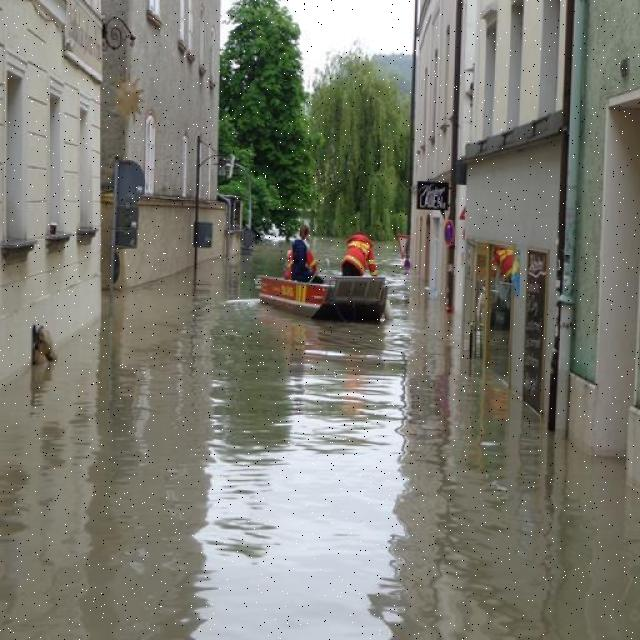rescuer: (278, 214, 325, 294), (338, 222, 383, 280)
